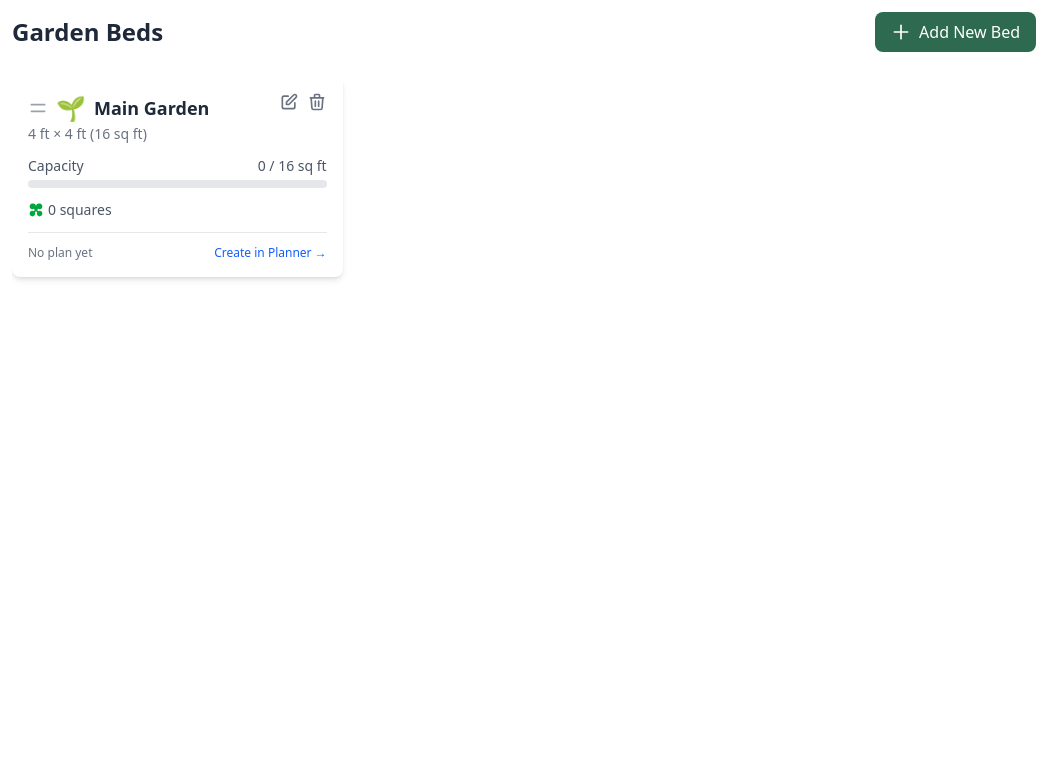
Test: BedManager › editing beds › hides edit form when cancelled
Click the button named "Edit Main Garden" at {"x": 289, "y": 102}, box [279, 92, 299, 112]
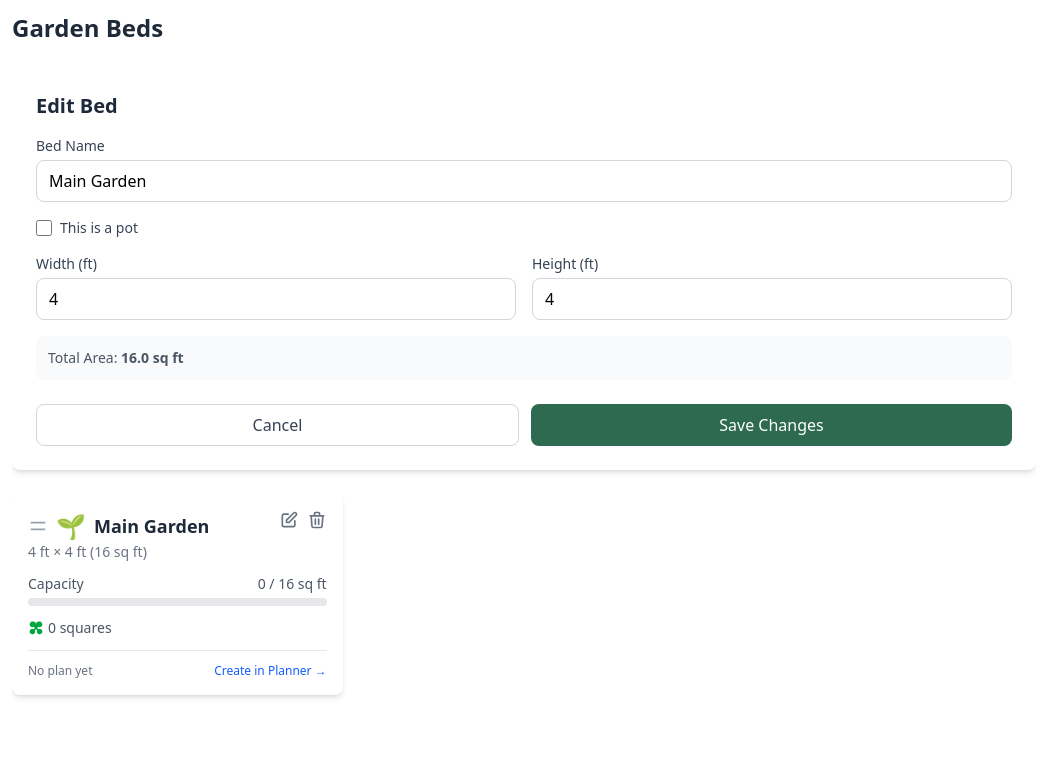
Click the button "Cancel" at {"x": 278, "y": 425}, box [36, 404, 519, 446]
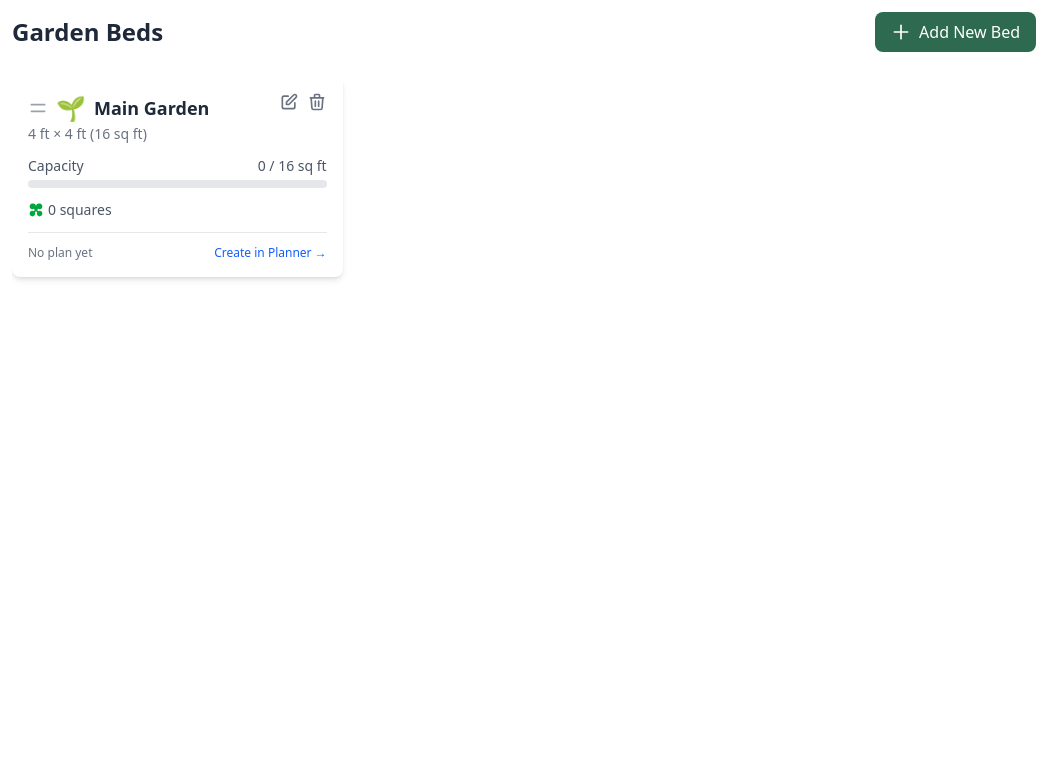
Now the heading "Edit Bed" is gone
